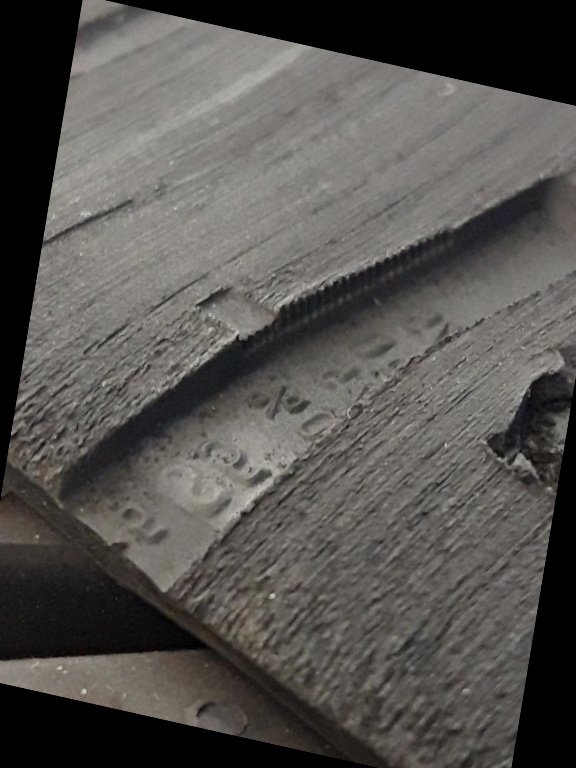temoin:0: (178, 252, 311, 373)
